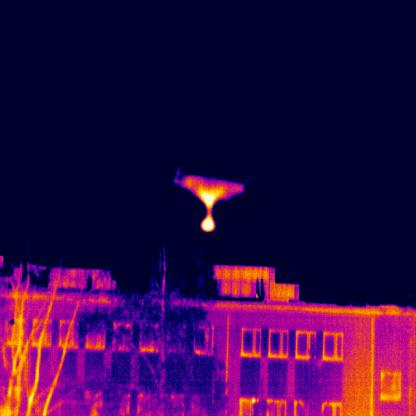drone: (173, 166, 249, 231)
